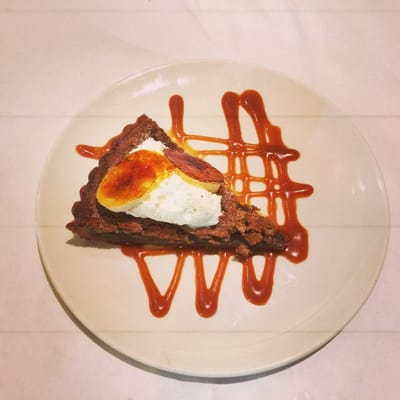soup: (65, 115, 292, 321)
